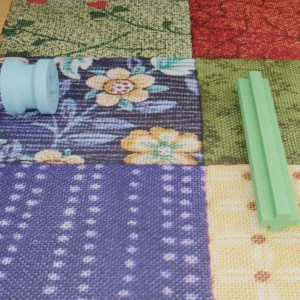lego: (236, 70, 300, 231), (0, 58, 58, 113)
